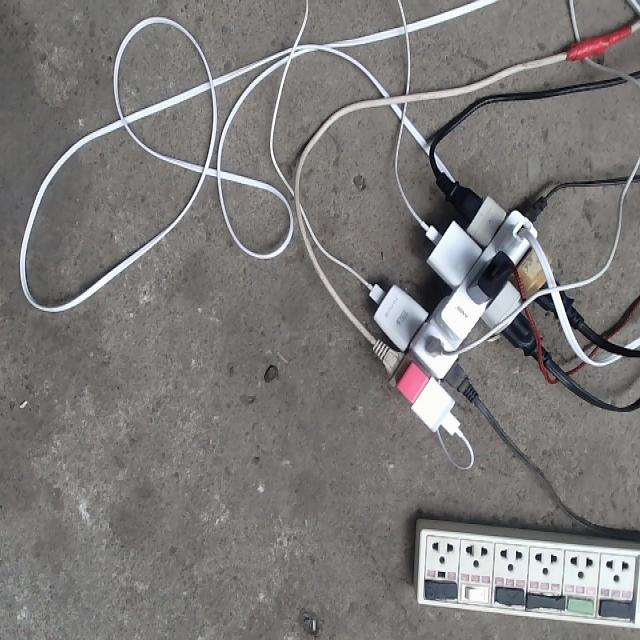-: (363, 171, 584, 445)
